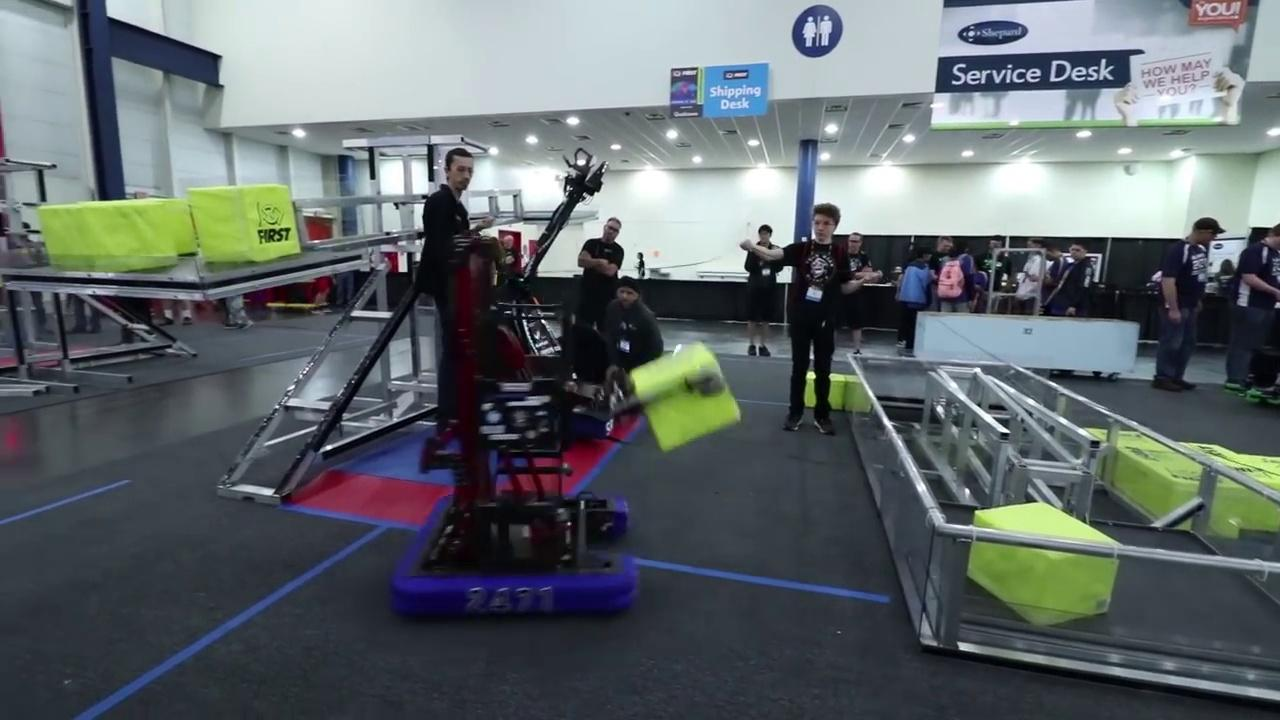robot: (387, 234, 654, 623)
